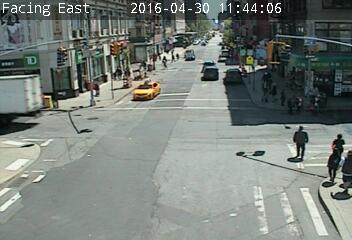neg: (44, 88, 65, 117), (33, 136, 54, 164), (5, 34, 25, 61), (167, 178, 187, 204), (216, 93, 233, 117), (24, 5, 41, 28), (140, 144, 157, 167), (65, 151, 82, 173), (88, 142, 105, 164), (77, 17, 93, 39), (115, 10, 131, 31), (327, 204, 343, 225), (322, 27, 337, 48), (278, 178, 293, 198), (184, 83, 199, 102), (298, 24, 312, 42), (209, 149, 223, 167), (253, 209, 267, 227), (250, 171, 264, 188), (75, 97, 88, 115), (211, 8, 224, 26), (164, 5, 177, 23), (255, 43, 268, 61), (199, 59, 212, 76), (234, 142, 247, 159), (248, 107, 261, 124), (63, 44, 75, 61), (166, 102, 178, 118), (271, 17, 282, 32), (330, 103, 341, 118), (132, 80, 143, 94), (334, 69, 345, 83), (218, 40, 227, 53), (125, 161, 134, 173), (191, 27, 200, 38), (217, 63, 225, 74), (189, 46, 197, 57), (118, 114, 126, 124), (241, 24, 248, 34), (23, 81, 29, 89), (192, 127, 196, 134)
pos: (282, 120, 313, 160), (330, 145, 351, 196), (319, 145, 346, 181), (301, 80, 321, 108), (282, 64, 301, 90), (265, 81, 283, 105), (329, 128, 346, 151), (281, 93, 298, 116), (274, 88, 290, 110), (157, 53, 170, 71), (111, 63, 123, 79), (260, 68, 272, 83), (294, 96, 304, 110), (169, 51, 177, 62), (174, 51, 180, 60)
